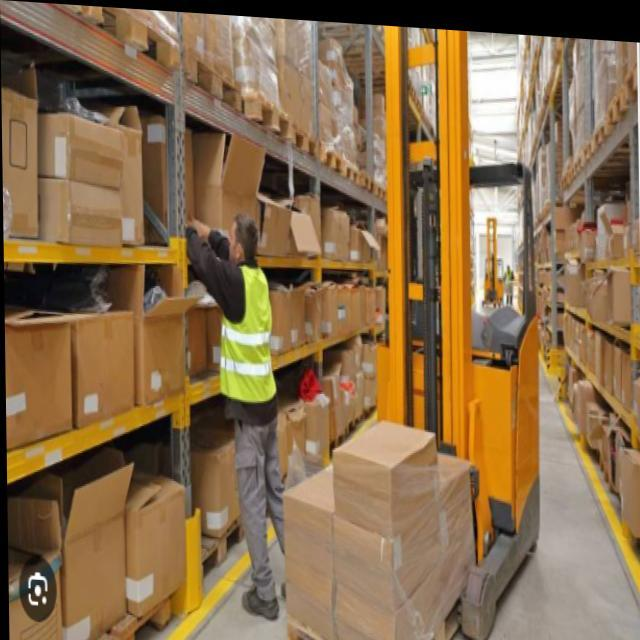shoes: (236, 562, 323, 628)
vest: (217, 264, 280, 411)
